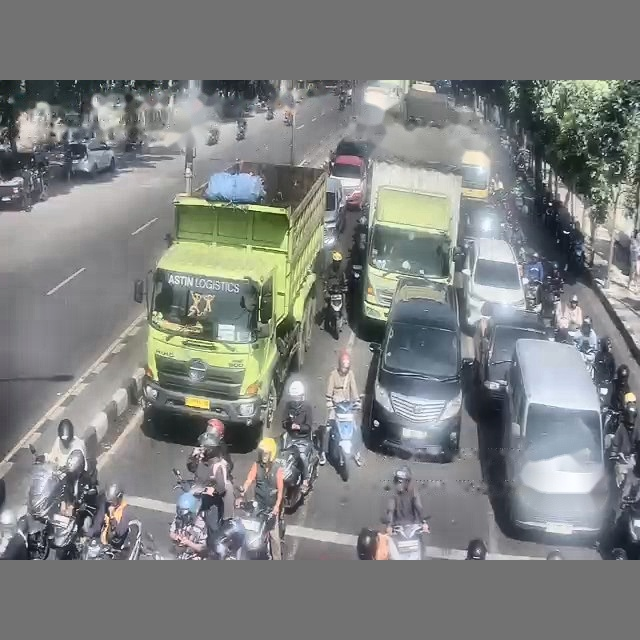Mobil: (366, 278, 472, 461), (475, 307, 549, 409), (461, 238, 525, 329), (0, 149, 47, 210), (330, 155, 367, 209), (69, 138, 115, 176), (461, 202, 505, 239), (324, 177, 344, 249), (40, 143, 71, 182), (332, 138, 372, 167)
Motor: (27, 445, 96, 559), (278, 425, 318, 511), (236, 501, 284, 559), (327, 401, 359, 481), (389, 523, 424, 559), (324, 284, 345, 339), (525, 279, 540, 310), (206, 128, 219, 145), (284, 111, 292, 125), (266, 107, 273, 120)
Truk: (134, 162, 326, 438), (363, 160, 461, 323)
